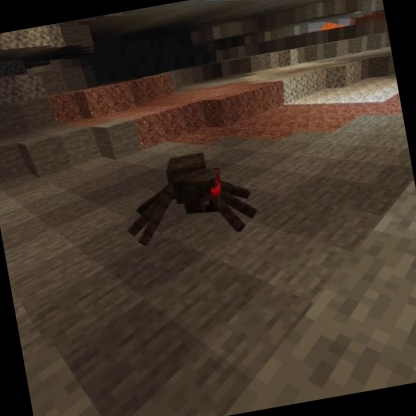spider: (112, 141, 263, 253)
